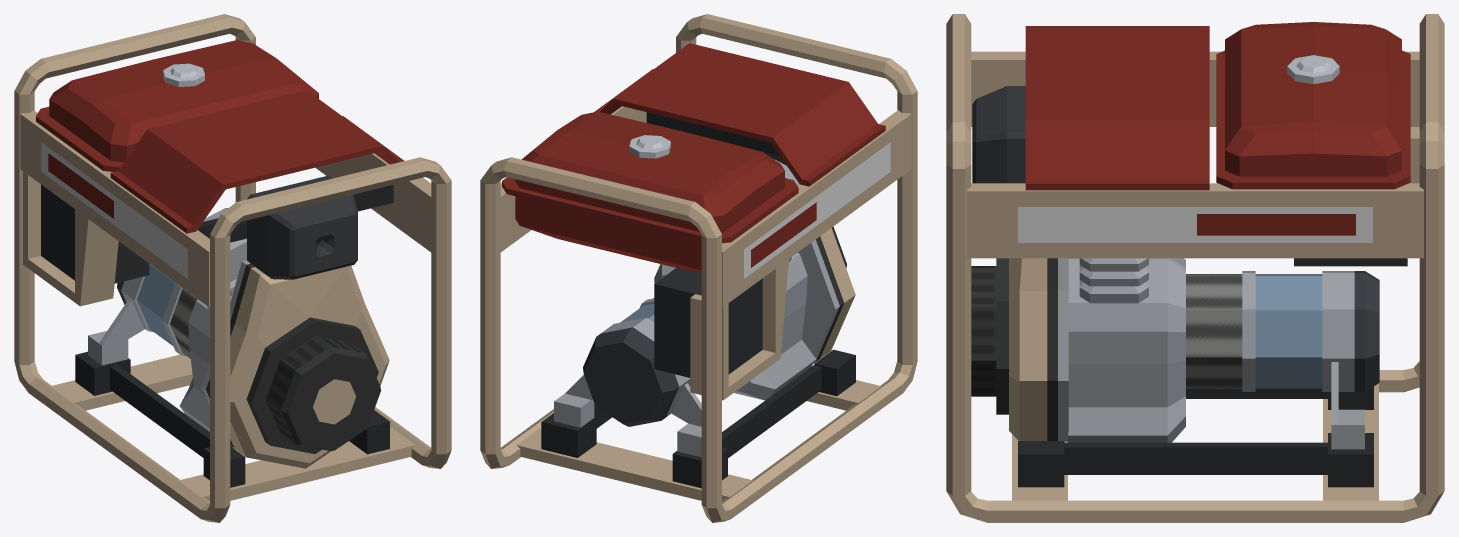
File: SM_Prop_Generator_Small_01.fbx
3 views of the same model, side by side, from view 1: azimuth 30°, elevation 25°; view 2: azimuth 150°, elevation 25°; view 3: azimuth 270°, elevation 25° (orthographic). The views are drawn at different scales.
Parts seen in each view (by area): view 1: SM_Prop_Generator_Small_01; view 2: SM_Prop_Generator_Small_01; view 3: SM_Prop_Generator_Small_01.
Part boxes in pixels (bbox=[...]): SM_Prop_Generator_Small_01: bbox=[14, 14, 451, 522]; SM_Prop_Generator_Small_01: bbox=[480, 14, 917, 522]; SM_Prop_Generator_Small_01: bbox=[946, 14, 1444, 522].
Bounding box in the file's own units: 42.52 × 56.13 × 64.04.
